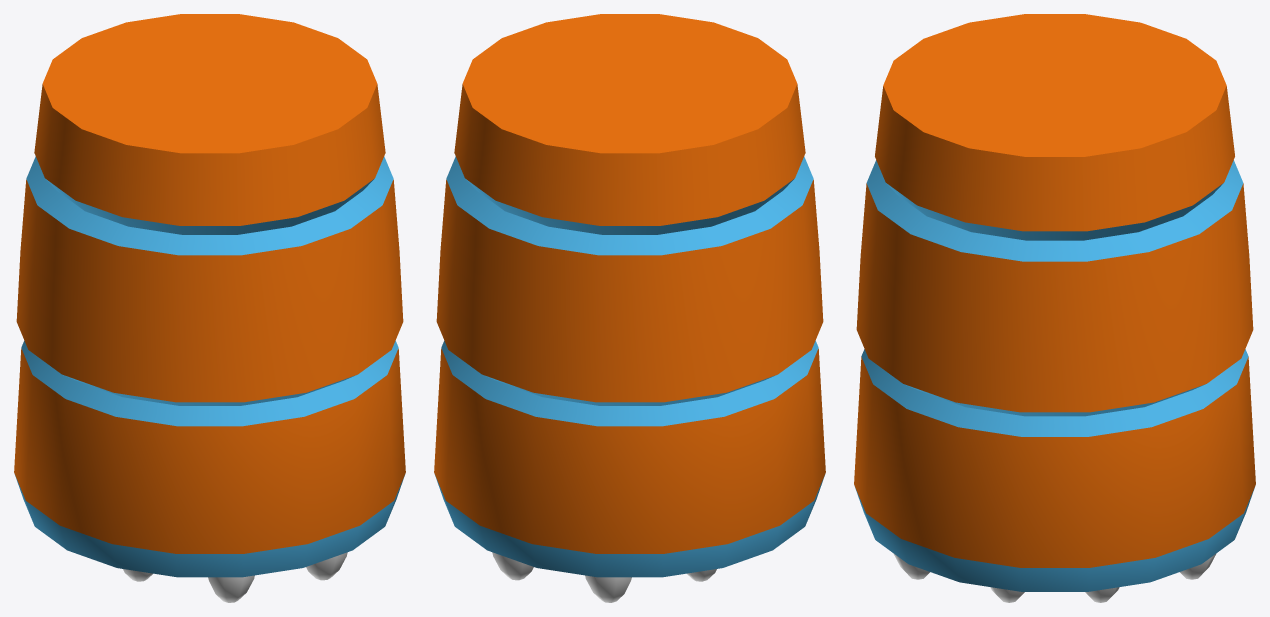
File: Crasher_01.fbx
3 views of the same model, side by side, from view 1: azimuth 30°, elevation 25°; view 2: azimuth 150°, elevation 25°; view 3: azimuth 270°, elevation 25° (orthographic). The views are drawn at different scales.
Visible parts, largest first — view 1: Obstacle_Crasher_01; view 2: Obstacle_Crasher_01; view 3: Obstacle_Crasher_01.
Part boxes in pixels (x1=…): Obstacle_Crasher_01: x1=14, y1=14, x2=405, y2=602; Obstacle_Crasher_01: x1=434, y1=14, x2=825, y2=602; Obstacle_Crasher_01: x1=854, y1=14, x2=1255, y2=602.
Size of the model in its own units: 88.38 by 115 by 89.74.
1 material, 1 textured.
